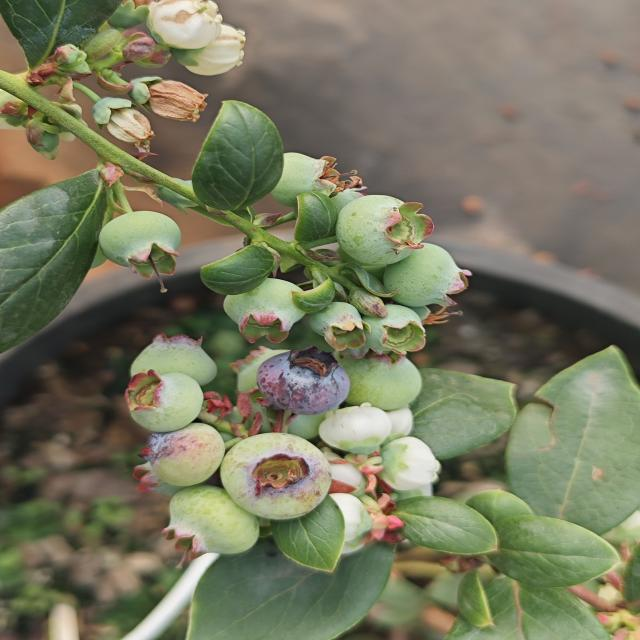ripe: (238, 345, 357, 421)
